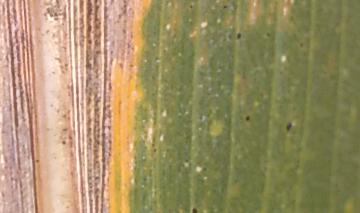tarspot: (282, 118, 296, 134), (241, 112, 254, 126), (232, 30, 244, 41), (219, 2, 231, 13), (262, 29, 273, 40), (187, 205, 201, 213)
